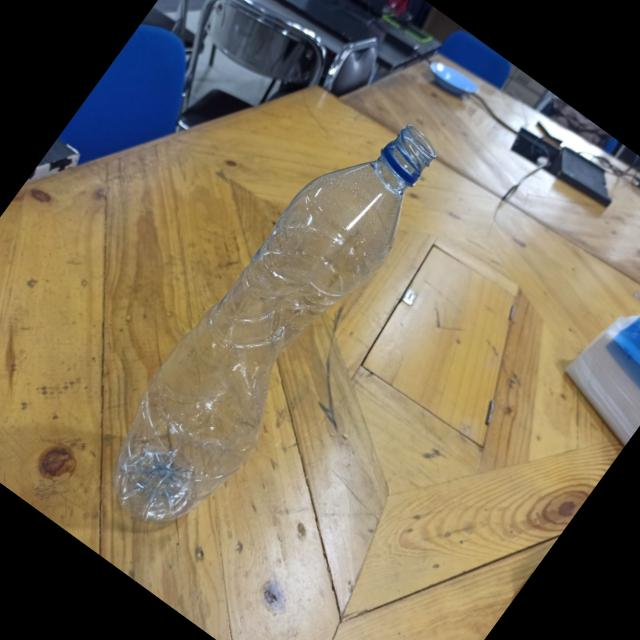BotolPlastik: (78, 86, 464, 552)
